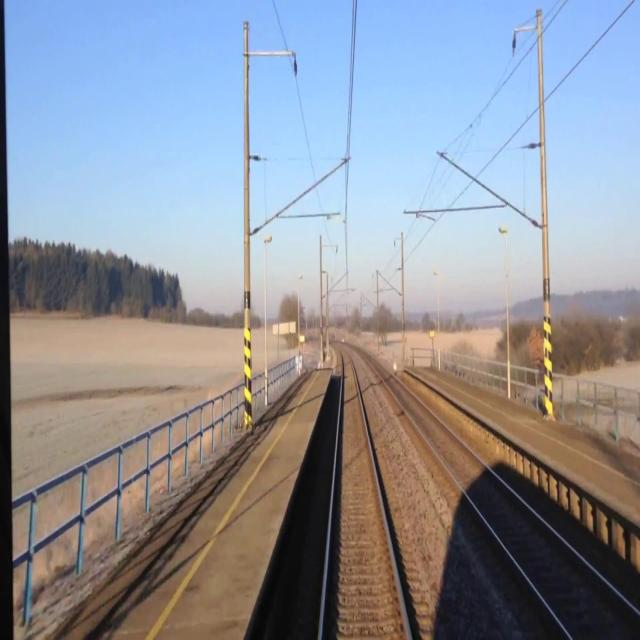rail-track: (368, 357, 640, 639), (322, 351, 407, 639)
